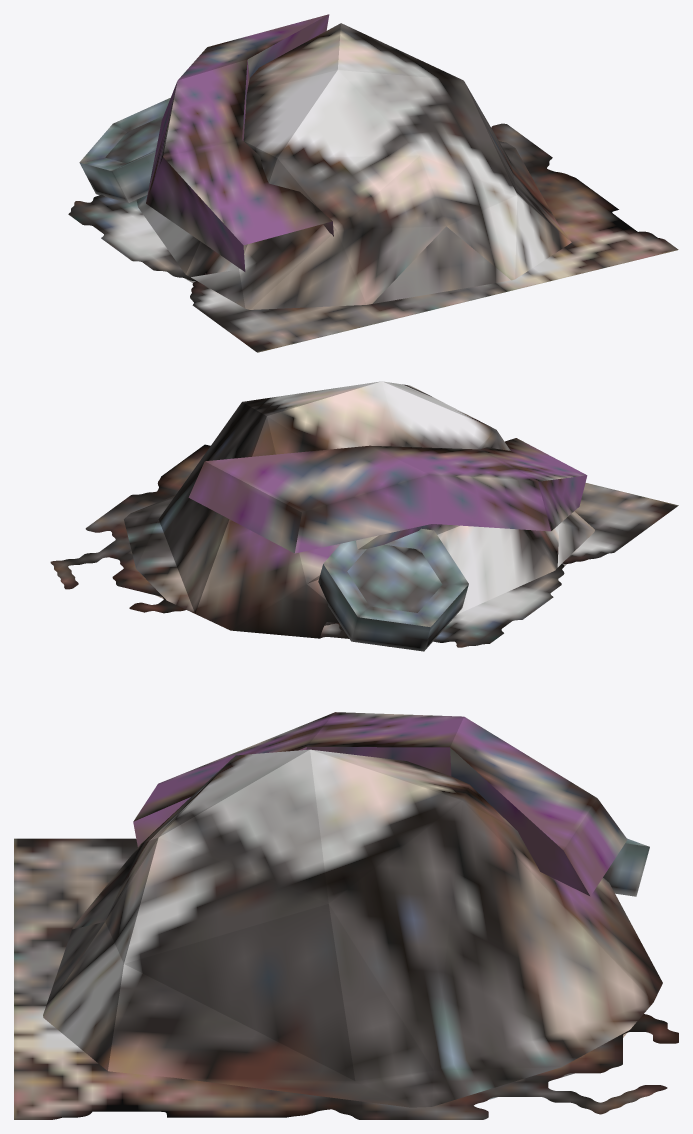
The model's file is Poly_SF_Outside_B_Scap_Metal_01.obj.
The picture shows the model from 3 angles, top to bottom: view 1: azimuth 30°, elevation 25°; view 2: azimuth 150°, elevation 25°; view 3: azimuth 270°, elevation 25°; orthographic projection. The views are drawn at different scales.
Parts seen in each view (by area): view 1: Cube.002, Cube.001, Cube.003; view 2: Cube.002, Cube.001, Cube.003; view 3: Cube.002, Cube.003, Cube.001.
Part boxes in pixels (left/top/right/bottom): Cube.002: left=79, top=23, right=571, bottom=309; Cube.001: left=146, top=14, right=333, bottom=271; Cube.003: left=68, top=123, right=678, bottom=352; Cube.002: left=124, top=381, right=594, bottom=651; Cube.001: left=188, top=438, right=587, bottom=553; Cube.003: left=50, top=444, right=678, bottom=647; Cube.002: left=43, top=749, right=662, bottom=1107; Cube.003: left=14, top=838, right=678, bottom=1119; Cube.001: left=133, top=712, right=627, bottom=896.
Size of the model in its own units: 1.3 by 0.4791 by 1.3.
1 material, 1 textured.
